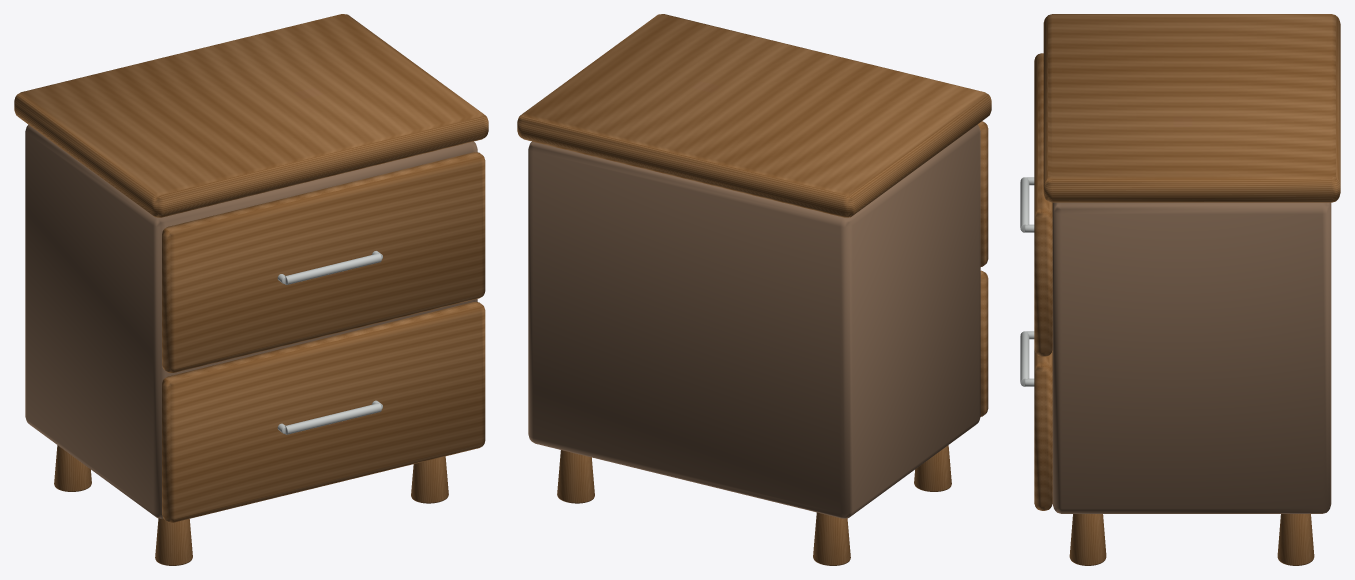
Rendered from nightstand.glb.
3 renders of one model, left to right at view 1: azimuth 30°, elevation 25°; view 2: azimuth 150°, elevation 25°; view 3: azimuth 270°, elevation 25°, orthographic. The views are drawn at different scales.
Parts seen in each view (by area): view 1: nightstand-mesh; view 2: nightstand-mesh; view 3: nightstand-mesh.
Part boxes in pixels (box(x1,y1,x2,y2)): nightstand-mesh: box(14, 14, 488, 565); nightstand-mesh: box(517, 14, 991, 565); nightstand-mesh: box(1020, 14, 1340, 565).
Size of the model in its own units: 0.5 by 0.55 by 0.4.
3 materials, 1 textured.
